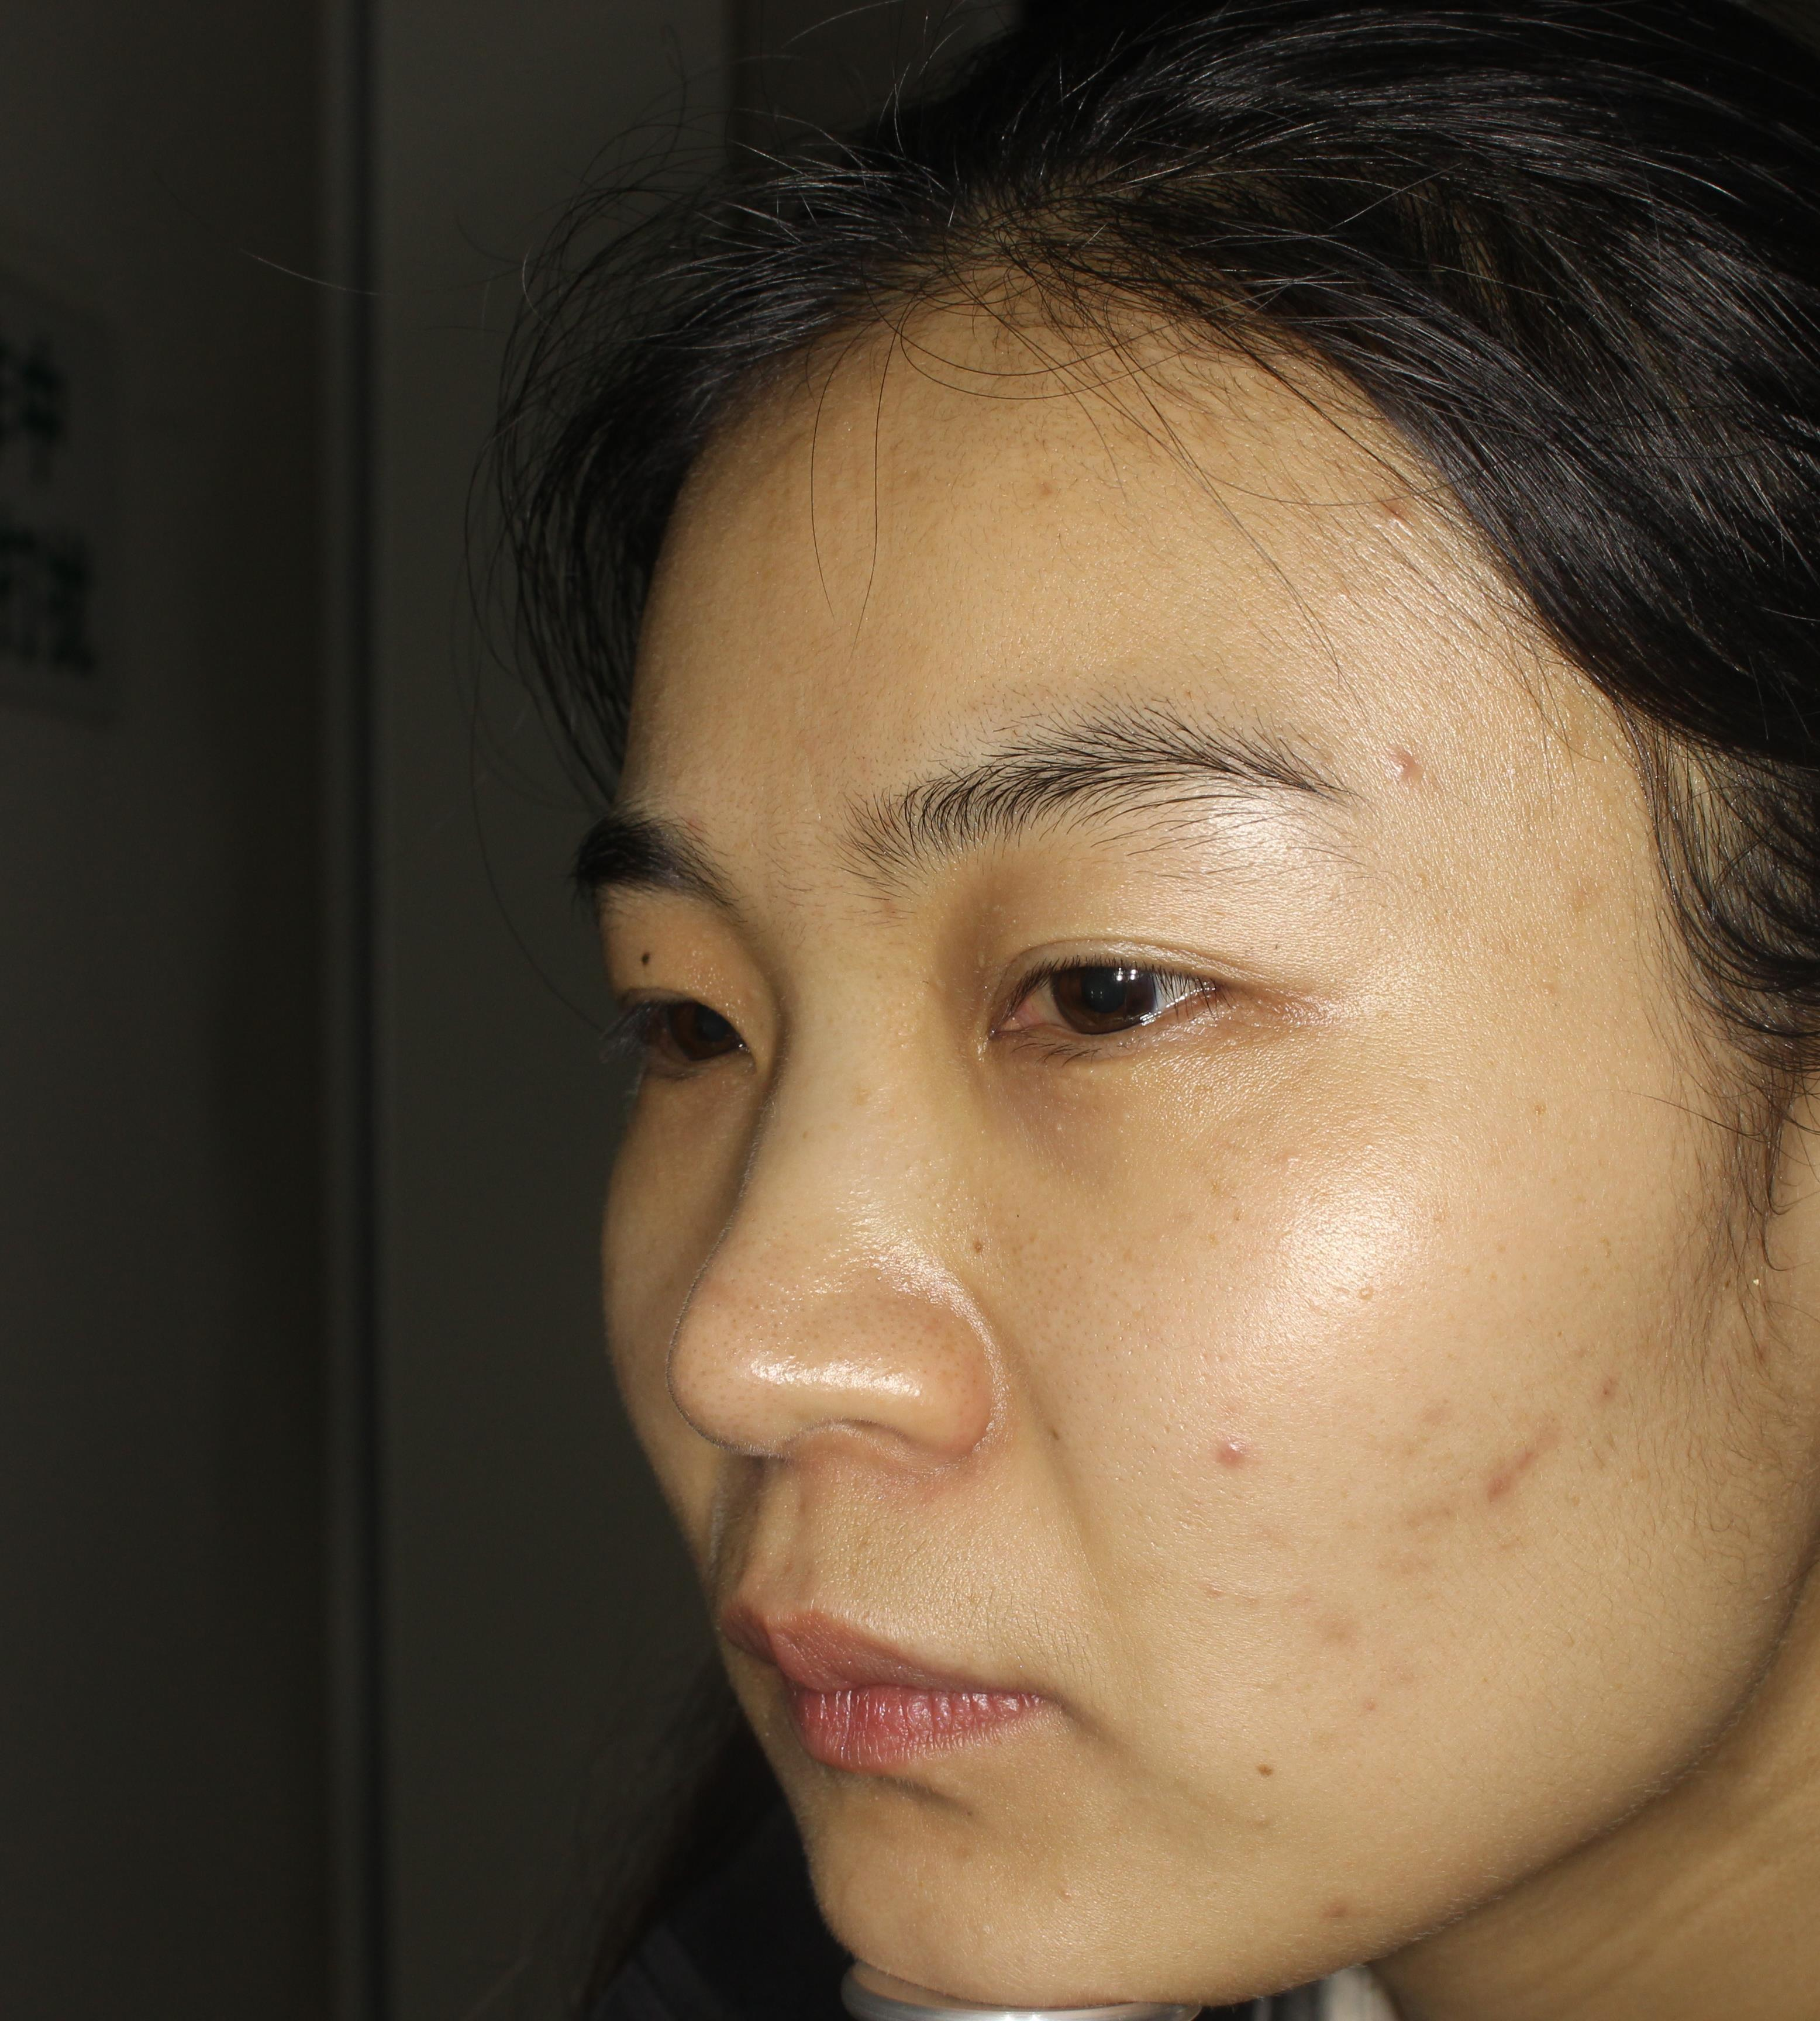fore: (1462, 1396, 1583, 1517), (1189, 1410, 1260, 1517), (1372, 725, 1435, 801)
